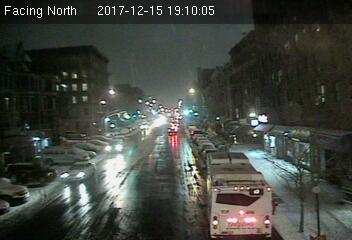bus: (206, 153, 274, 235)
car: (62, 160, 95, 181), (104, 138, 125, 153)
